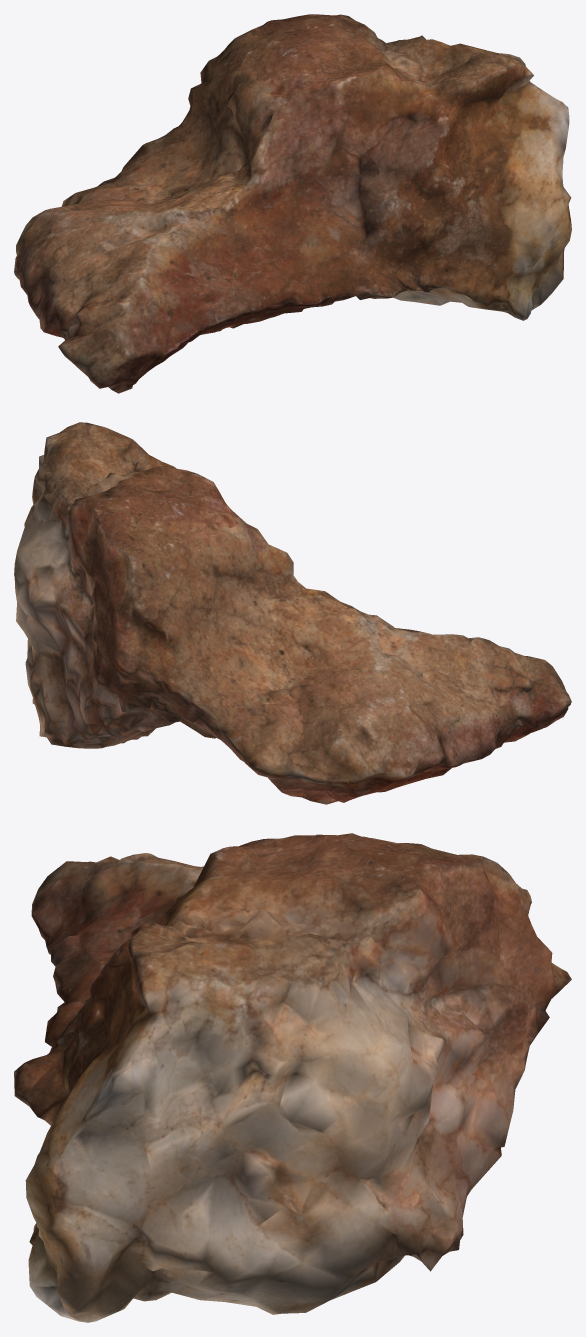
The model's file is stone_small.glb.
3 renders of one model, top to bottom at view 1: azimuth 30°, elevation 25°; view 2: azimuth 150°, elevation 25°; view 3: azimuth 270°, elevation 25°, orthographic. The views are drawn at different scales.
Parts seen in each view (by area): view 1: stone_01; view 2: stone_01; view 3: stone_01.
Boxes of the visible parts, left/top/right/bottom form: stone_01: left=14, top=14, right=571, bottom=393; stone_01: left=14, top=422, right=571, bottom=804; stone_01: left=14, top=833, right=571, bottom=1322.
Bounding box in the file's own units: 0.7 × 0.3422 × 0.424.
1 material, 1 textured.
